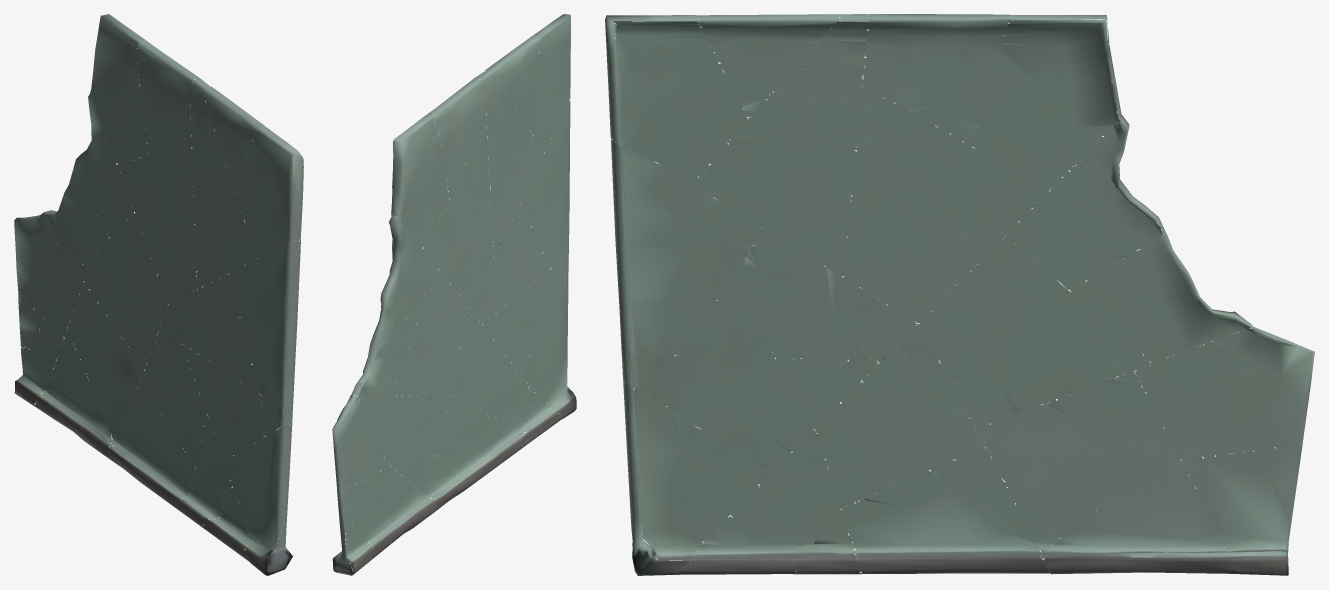
The model's file is glass_pane.glb.
The picture shows the model from 3 angles, left to right: view 1: azimuth 30°, elevation 25°; view 2: azimuth 150°, elevation 25°; view 3: azimuth 270°, elevation 25°; orthographic projection. The views are drawn at different scales.
Parts seen in each view (by area): view 1: tripo_node_163ab994-f142-4bb0-a965-c76ba846b6bf; view 2: tripo_node_163ab994-f142-4bb0-a965-c76ba846b6bf; view 3: tripo_node_163ab994-f142-4bb0-a965-c76ba846b6bf.
Boxes of the visible parts, bbox=[...] form: tripo_node_163ab994-f142-4bb0-a965-c76ba846b6bf: bbox=[14, 14, 303, 575]; tripo_node_163ab994-f142-4bb0-a965-c76ba846b6bf: bbox=[332, 14, 576, 575]; tripo_node_163ab994-f142-4bb0-a965-c76ba846b6bf: bbox=[605, 14, 1314, 575].
Bounding box in the file's own units: 0.0701 × 0.8744 × 1.
Materials: 1 (1 with a texture image).
